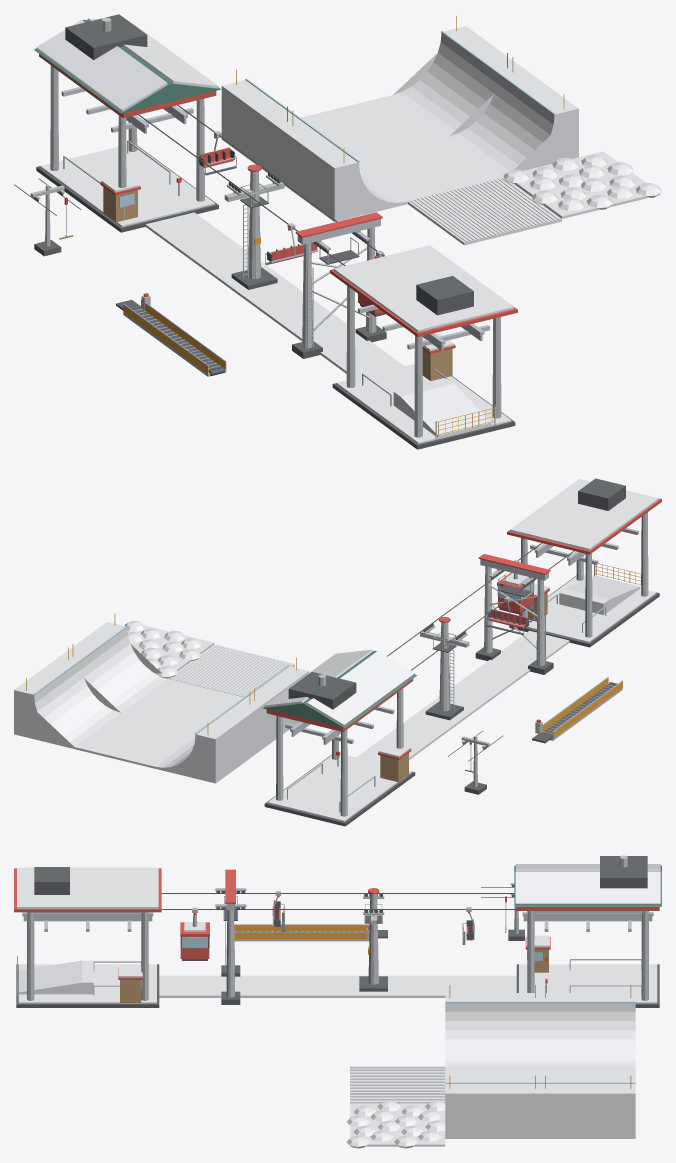
The model's file is ski-resort-and-snow-park-lift-line-and-halfpipe-cases-f7c97e9e__26042.glb.
The picture shows the model from 3 angles, top to bottom: view 1: azimuth 30°, elevation 25°; view 2: azimuth 150°, elevation 25°; view 3: azimuth 270°, elevation 25°; orthographic projection. The views are drawn at different scales.
Visible parts, largest first — view 1: 006-lift-top-station/1, 000-lift-bottom-station/1, 017-halfpipe-wall-right/0, 014-halfpipe-wall-right/0, 015-halfpipe-wall-left/0, 019-mogul-tile/0, 018-corduroy-tile/0, 016-piste-tile/0, 013-piste-tile/0, 012-halfpipe-wall-left/0, 000-lift-bottom-station/2, 006-lift-top-station/2 (+18 smaller); view 2: 006-lift-top-station/1, 000-lift-bottom-station/1, 014-halfpipe-wall-right/0, 012-halfpipe-wall-left/0, 017-halfpipe-wall-right/0, 013-piste-tile/0, 018-corduroy-tile/0, 016-piste-tile/0, 000-lift-bottom-station/2, 019-mogul-tile/0, 003-cable-span-12m/0, 006-lift-top-station/2 (+16 smaller); view 3: 006-lift-top-station/1, 000-lift-bottom-station/1, 012-halfpipe-wall-left/0, 015-halfpipe-wall-left/0, 014-halfpipe-wall-right/0, 017-halfpipe-wall-right/0, 019-mogul-tile/0, 018-corduroy-tile/0, 000-lift-bottom-station/2, 003-cable-span-12m/0, 006-lift-top-station/2, 001-cable-span-12m/0 (+16 smaller).
Boxes of the visible parts, x1,y1,x2,y2 form: 006-lift-top-station/1: (334, 245, 513, 444); 000-lift-bottom-station/1: (36, 18, 218, 227); 017-halfpipe-wall-right/0: (449, 67, 578, 175); 014-halfpipe-wall-right/0: (393, 26, 521, 136); 015-halfpipe-wall-left/0: (278, 121, 407, 221); 019-mogul-tile/0: (503, 151, 661, 218); 018-corduroy-tile/0: (408, 177, 561, 245); 016-piste-tile/0: (357, 136, 503, 201); 013-piste-tile/0: (301, 95, 448, 158); 012-halfpipe-wall-left/0: (221, 80, 301, 177); 000-lift-bottom-station/2: (50, 17, 204, 220); 006-lift-top-station/2: (346, 286, 501, 439); 006-lift-top-station/1: (510, 479, 658, 642); 000-lift-bottom-station/1: (264, 649, 414, 821); 014-halfpipe-wall-right/0: (14, 656, 120, 748); 012-halfpipe-wall-left/0: (155, 700, 262, 783); 017-halfpipe-wall-right/0: (61, 622, 167, 712); 013-piste-tile/0: (74, 713, 196, 768); 018-corduroy-tile/0: (168, 644, 294, 697); 016-piste-tile/0: (121, 679, 243, 731); 000-lift-bottom-station/2: (276, 674, 403, 816); 019-mogul-tile/0: (124, 621, 214, 678); 003-cable-span-12m/0: (425, 656, 529, 718); 006-lift-top-station/2: (520, 512, 648, 637); 006-lift-top-station/1: (17, 867, 158, 1003); 000-lift-bottom-station/1: (515, 864, 660, 1003); 012-halfpipe-wall-left/0: (540, 993, 635, 1066); 015-halfpipe-wall-left/0: (445, 993, 540, 1066); 014-halfpipe-wall-right/0: (540, 1083, 635, 1138); 017-halfpipe-wall-right/0: (445, 1083, 540, 1138); 019-mogul-tile/0: (346, 1100, 445, 1148); 018-corduroy-tile/0: (350, 1066, 445, 1104); 000-lift-bottom-station/2: (522, 855, 653, 1000); 003-cable-span-12m/0: (235, 975, 373, 997); 006-lift-top-station/2: (17, 912, 153, 1000); 001-cable-span-12m/0: (373, 975, 516, 997).
Size of the model in its own units: 43.75 by 12.1 by 54.4.
